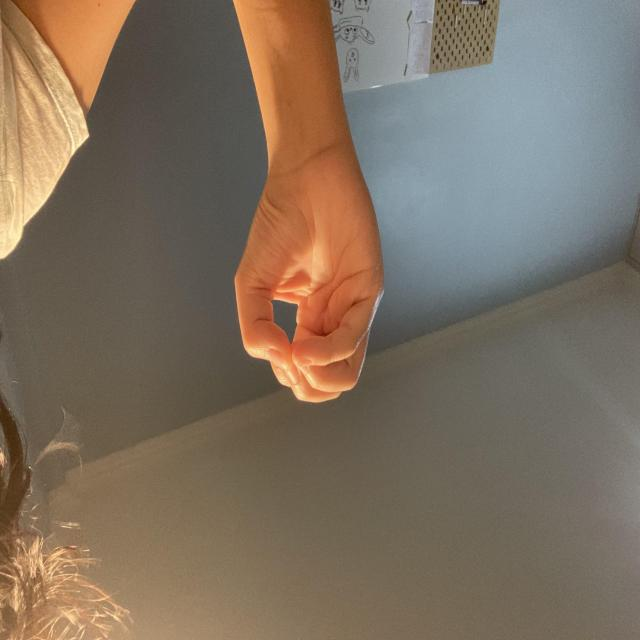O: (256, 237, 406, 498)
